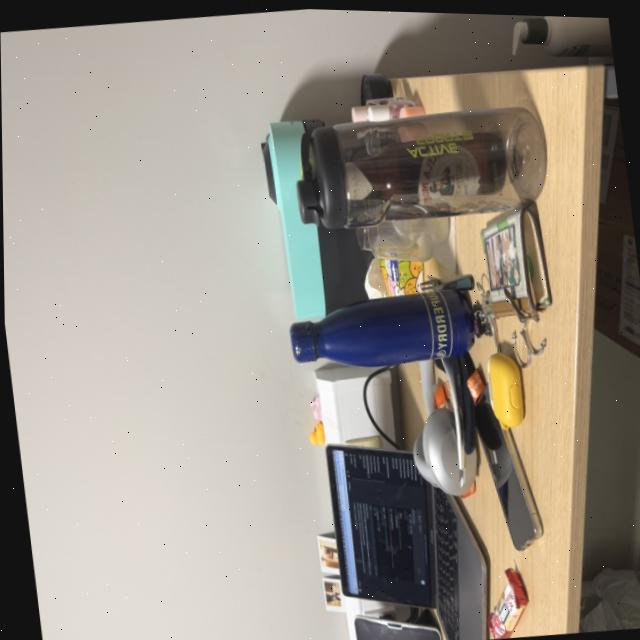beer: (288, 125, 514, 217)
chocolate: (474, 559, 530, 638)
